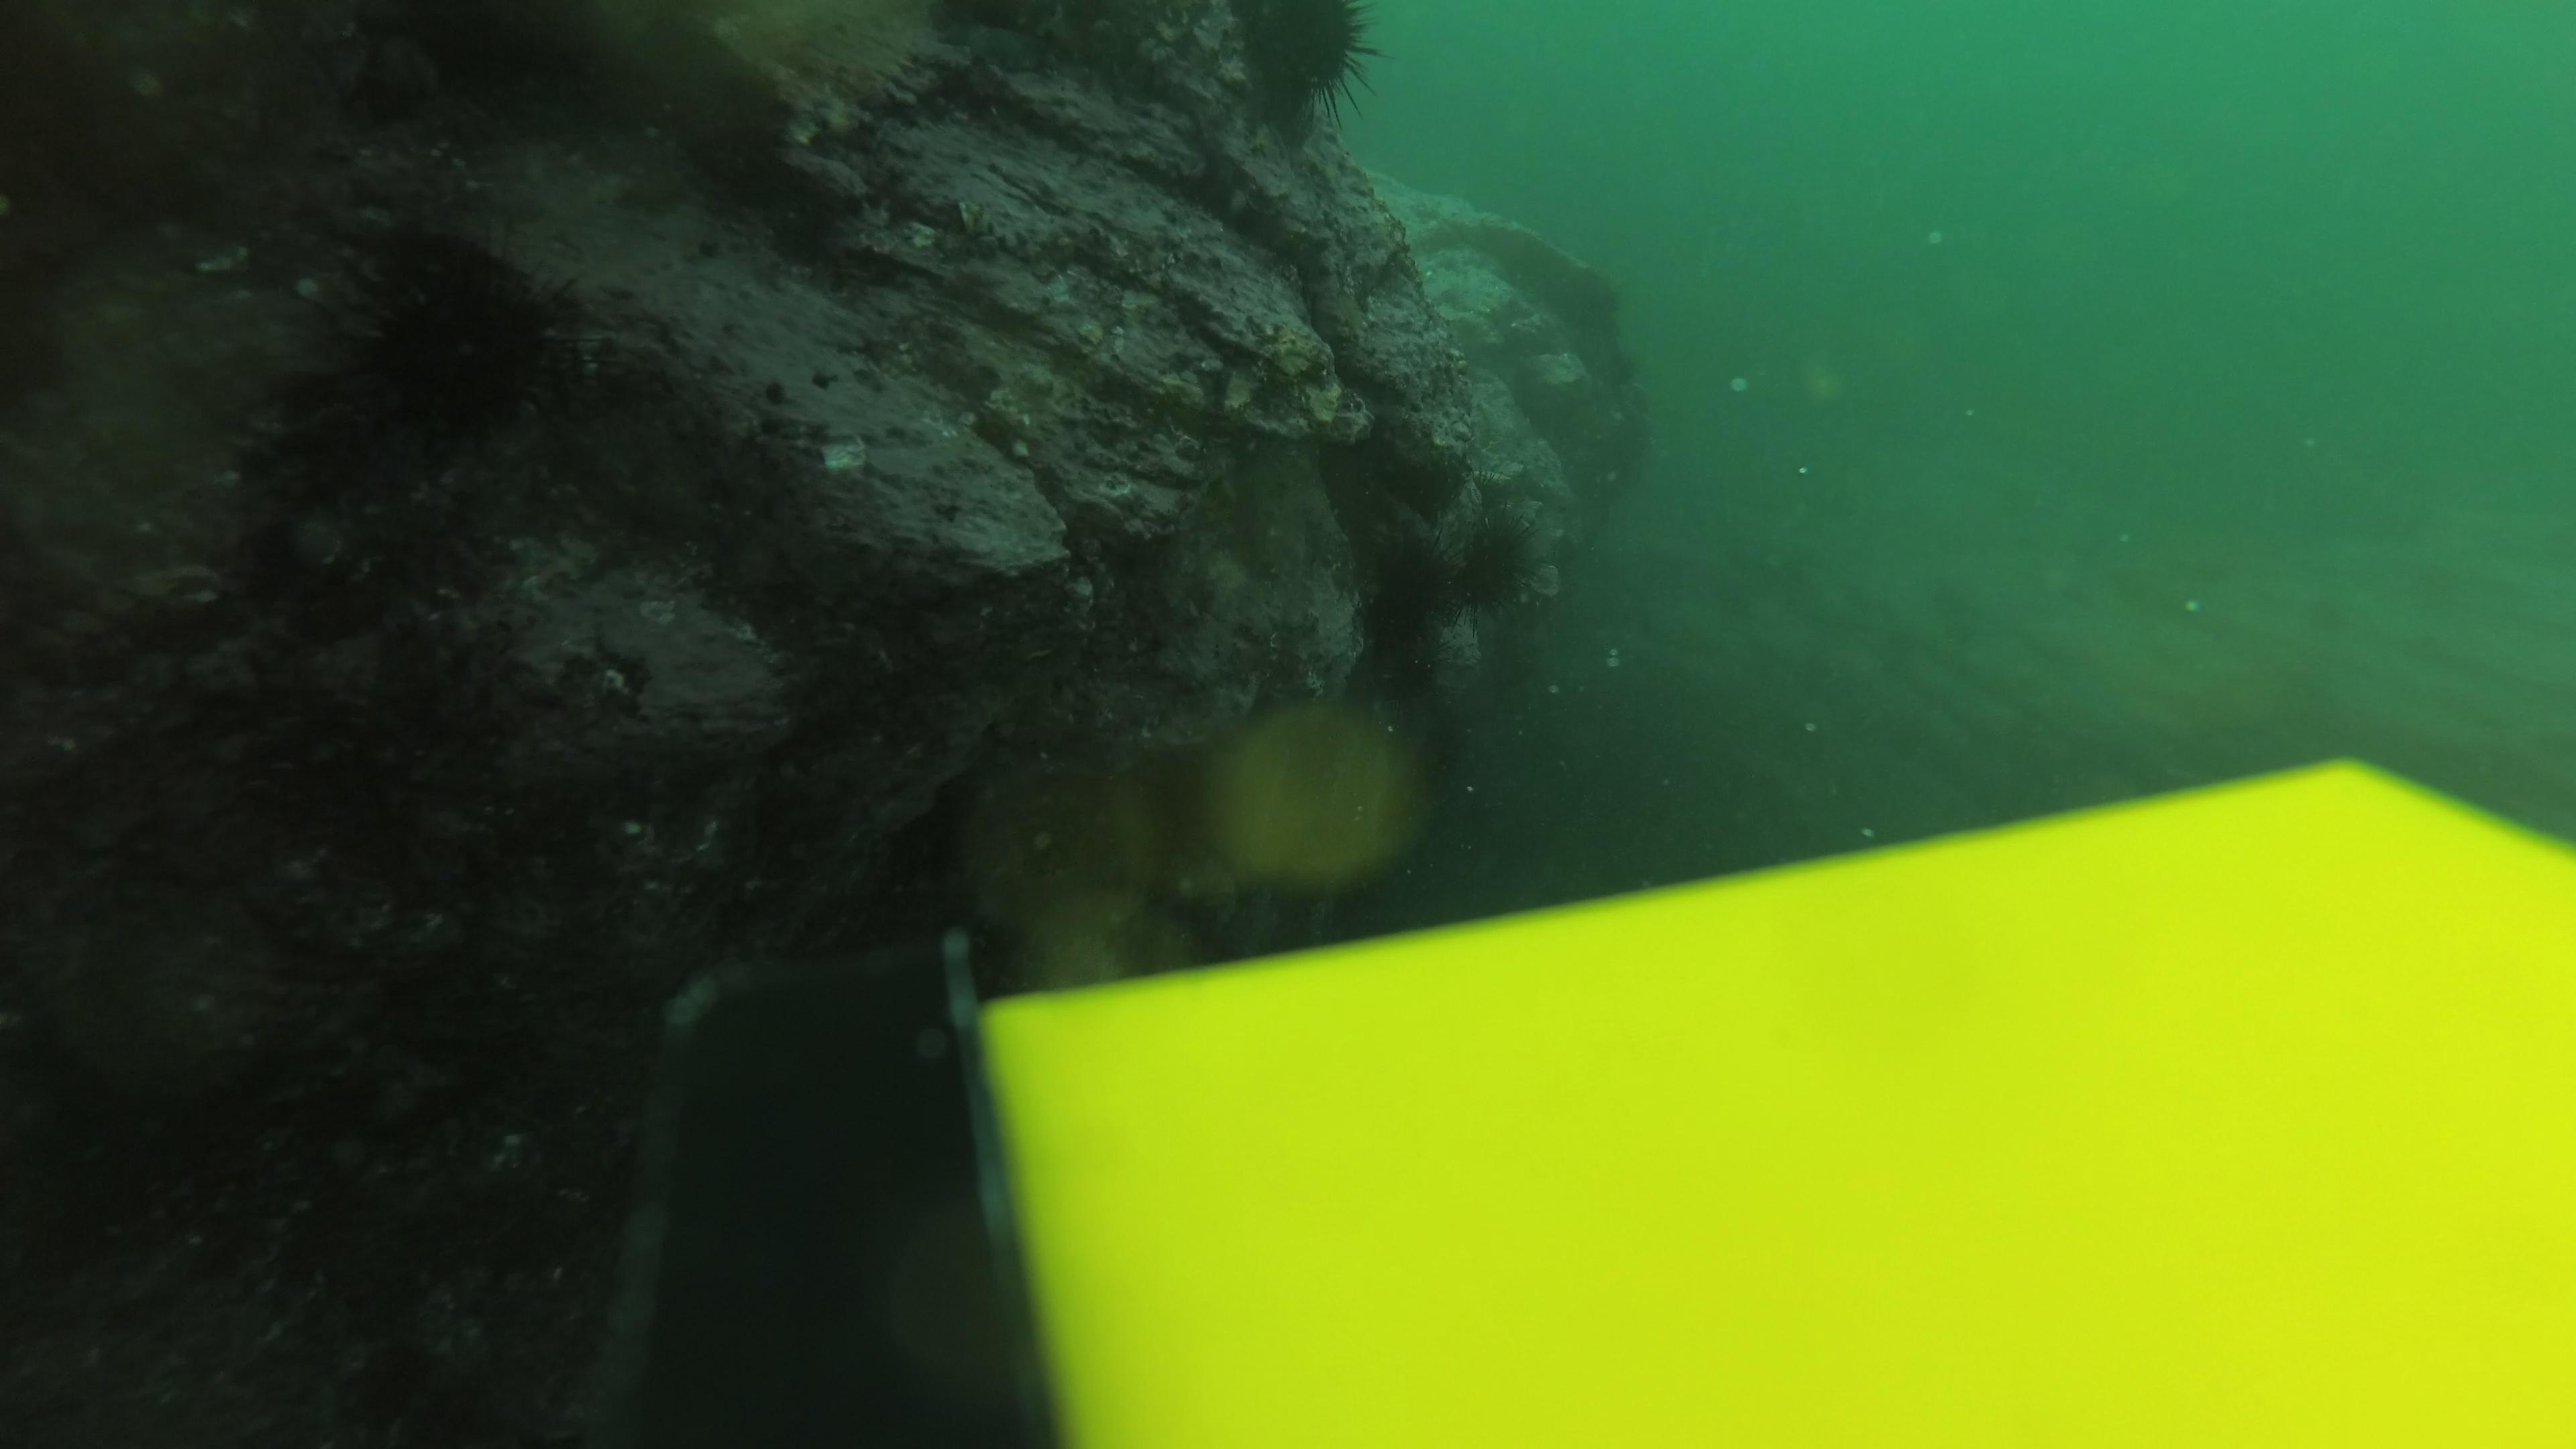echinus: (311, 225, 589, 453), (1217, 0, 1391, 136), (1407, 494, 1543, 619)
